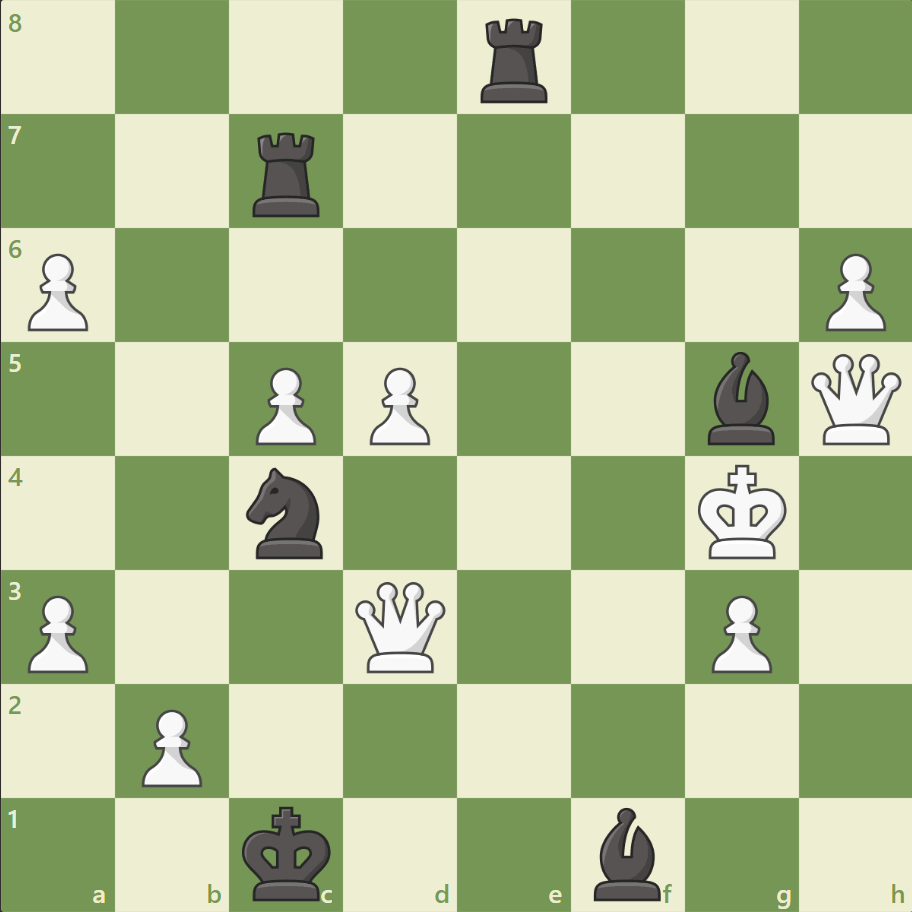K: (692, 458, 792, 566)
P: (20, 246, 95, 337), (247, 359, 322, 450), (20, 586, 95, 677), (701, 586, 776, 677), (133, 700, 208, 791), (815, 246, 889, 337), (361, 359, 435, 450)
Q: (805, 349, 904, 449), (351, 576, 450, 676)
b: (585, 801, 669, 904), (698, 347, 782, 449)
k: (238, 798, 338, 906)
n: (238, 461, 335, 564)
r: (473, 12, 556, 109), (246, 125, 329, 222)
